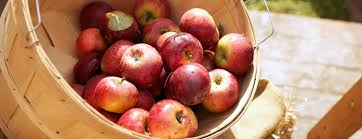apple: (122, 47, 163, 84), (206, 70, 243, 111), (215, 35, 255, 72), (164, 35, 206, 70), (171, 66, 209, 103), (94, 78, 134, 110), (103, 42, 136, 74), (179, 9, 217, 34), (119, 109, 147, 134), (80, 30, 103, 52)
damaged_apple: (148, 95, 191, 139), (104, 8, 139, 38)
